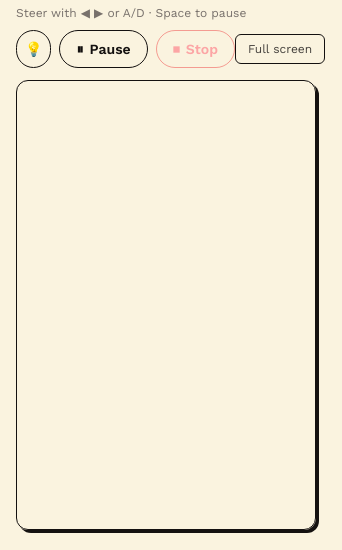
Scenario: LaneRush › disables the hint button once a hint has been used for the current gate
Click the button named "Get a hint" at (34, 49), box [16,30,52,68]
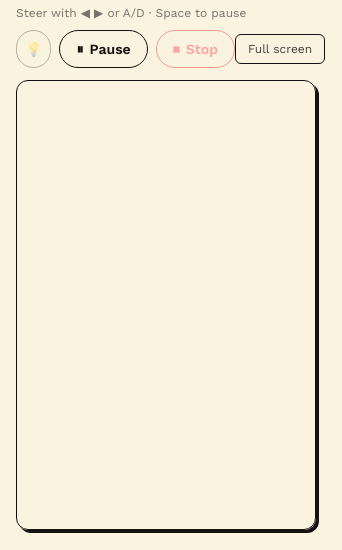
Now the button named "Get a hint" is disabled, box [16,30,52,68]
